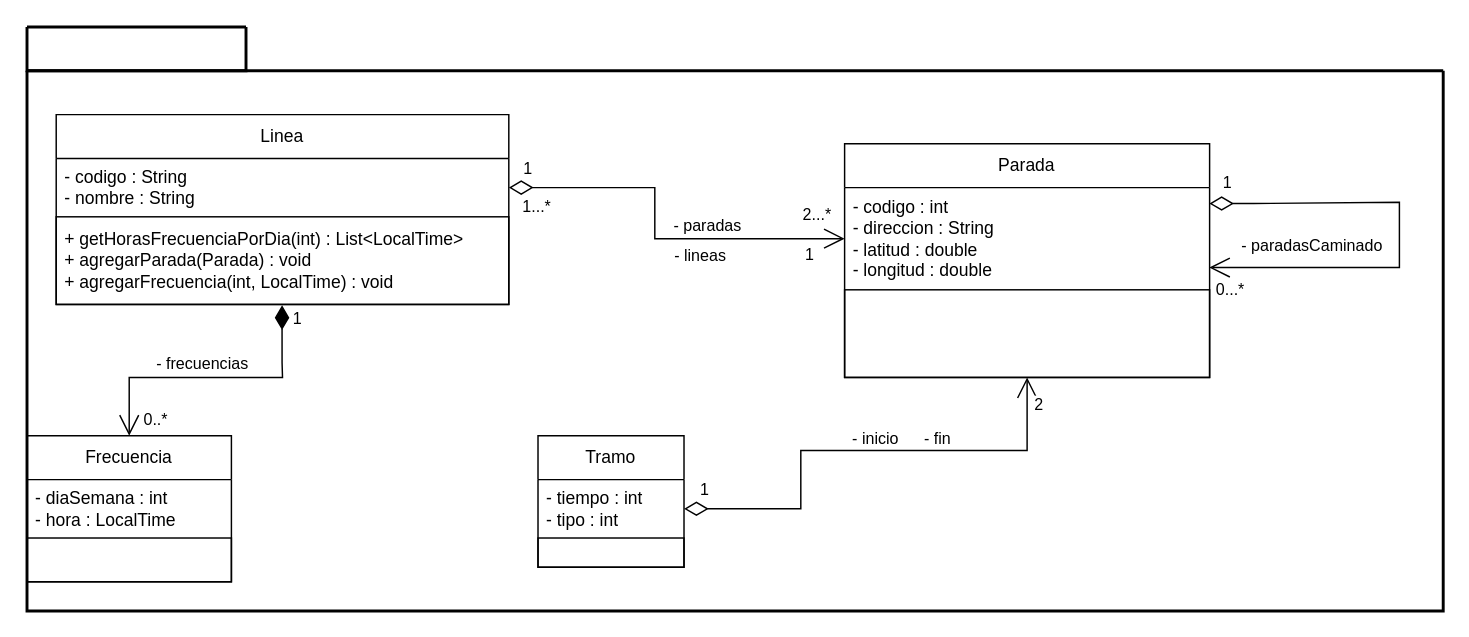
The diagram is 1469 pixels wide and 637 high, and some of its shapes have lost their labels. The shapes that lost their labels are listed below. From the top down, each one's centre as x and y in pixels, then its label:
At point 136,48: "Modelo".
At point 1026,332: "+ agregarLinea(Linea) : void + agregarParadaCaminado(Parada) : void".
